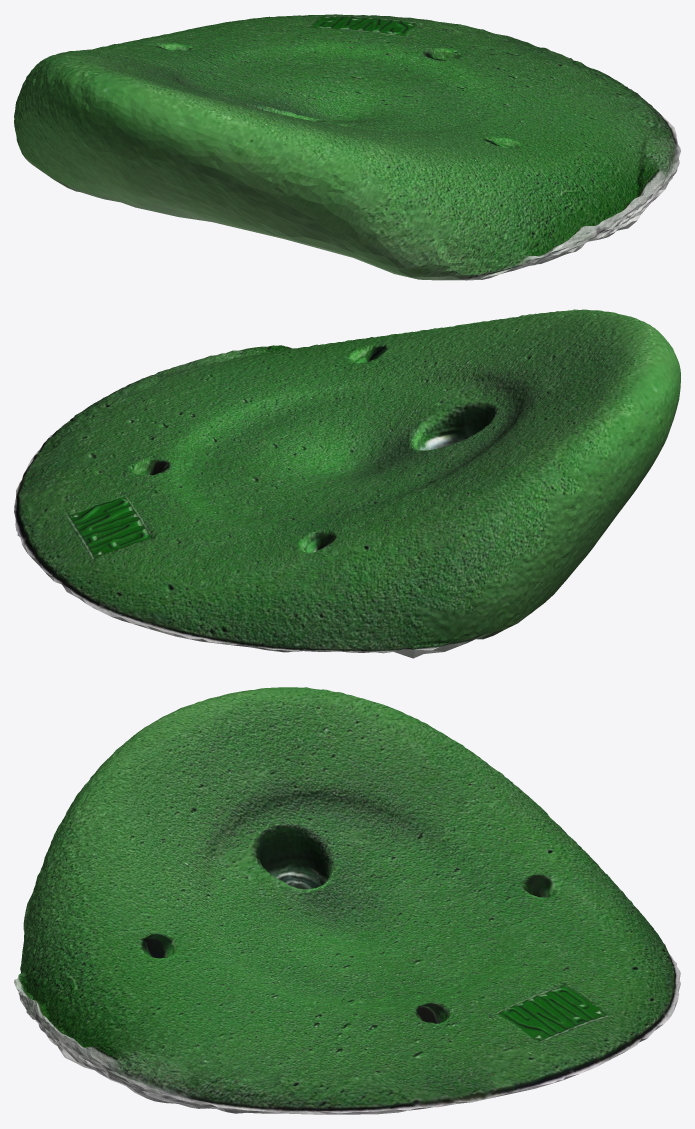
The model's file is SNAP_10_LXL_num2.glb.
3 renders of one model, top to bottom at view 1: azimuth 30°, elevation 25°; view 2: azimuth 150°, elevation 25°; view 3: azimuth 270°, elevation 25°, orthographic. The views are drawn at different scales.
Bounding box in the file's own units: 0.6889 × 0.2044 × 0.6961.
Materials: 1 (1 with a texture image).
